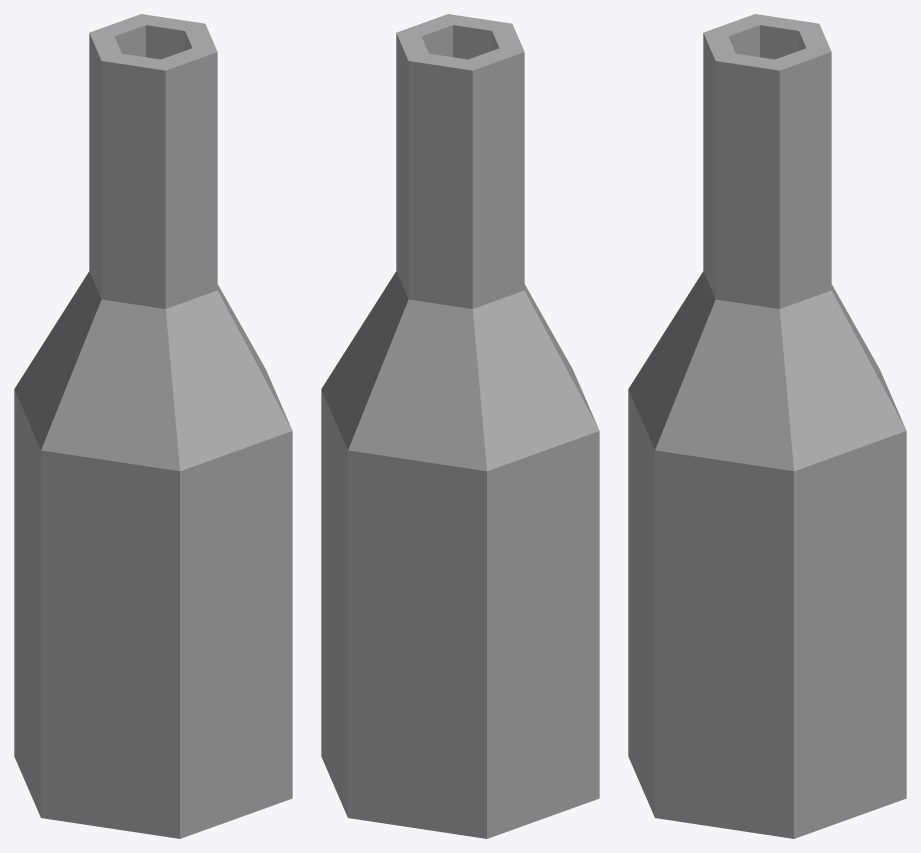
File: Bottle 2.fbx
3 renders of one model, left to right at view 1: azimuth 30°, elevation 25°; view 2: azimuth 150°, elevation 25°; view 3: azimuth 270°, elevation 25°, orthographic.
Parts seen in each view (by area): view 1: Bottle 2; view 2: Bottle 2; view 3: Bottle 2.
Part boxes in pixels (x1,y1,x2,y2): Bottle 2: [14, 14, 292, 838]; Bottle 2: [321, 14, 599, 838]; Bottle 2: [628, 14, 906, 838].
Bounding box in the file's own units: 12.07 × 11.56 × 33.72.
